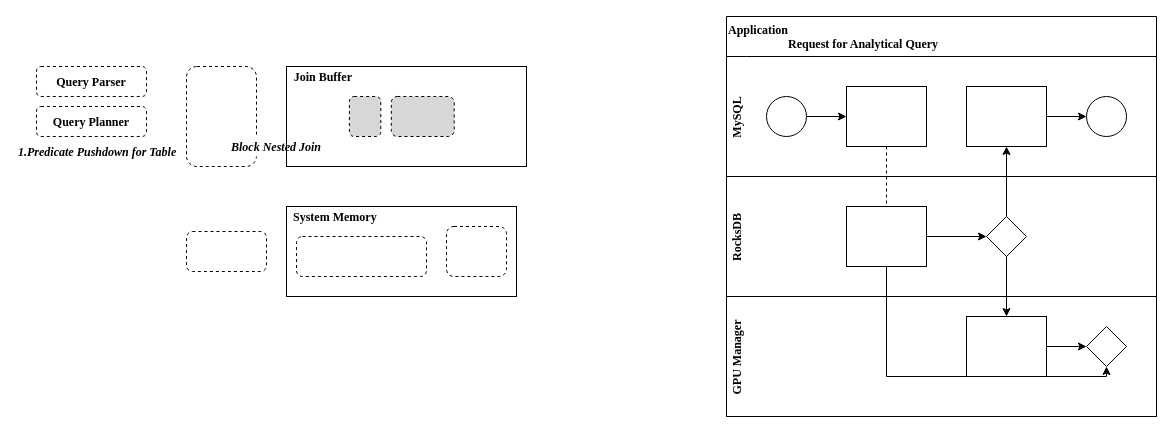
The diagram is 1173 pixels wide and 433 high, and some of its shapes have lost their labels. Each missing label, with the centre of its shape:
"Blocks Index List" goes at (476,251).
"Data Blocks Collector" goes at (226,251).
"Data Blocks List" goes at (361,256).
"Query Executor" goes at (221,116).
